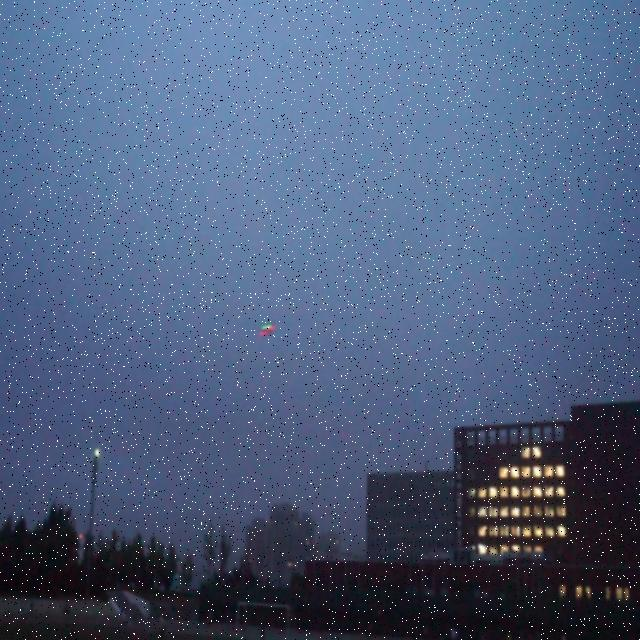UAV: (259, 325, 276, 336)
